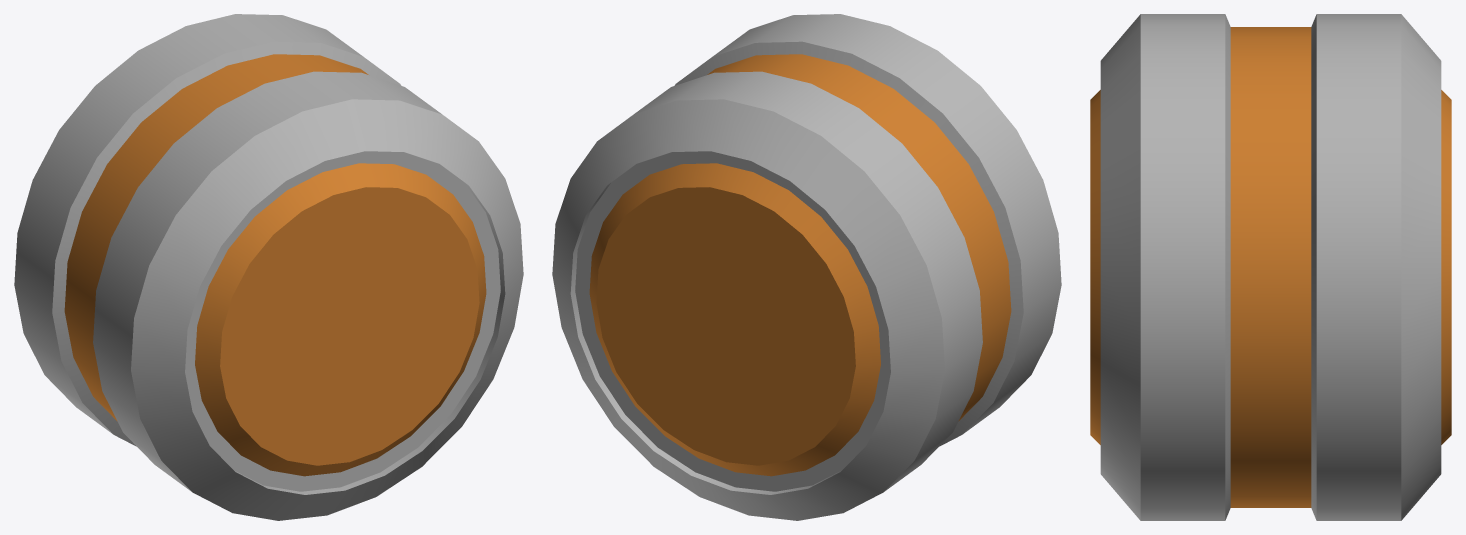
The model's file is Accessory_Pistol_1.gltf.
3 renders of one model, left to right at view 1: azimuth 30°, elevation 25°; view 2: azimuth 150°, elevation 25°; view 3: azimuth 270°, elevation 25°, orthographic. The views are drawn at different scales.
Visible parts, largest first — view 1: Accessory_Pistol_1; view 2: Accessory_Pistol_1; view 3: Accessory_Pistol_1.
Boxes of the visible parts, x1,y1,x2,y2 form: Accessory_Pistol_1: (14, 14, 523, 520); Accessory_Pistol_1: (552, 14, 1061, 520); Accessory_Pistol_1: (1090, 14, 1451, 520).
Bounding box in the file's own units: 0.25 × 0.2495 × 0.1782.
